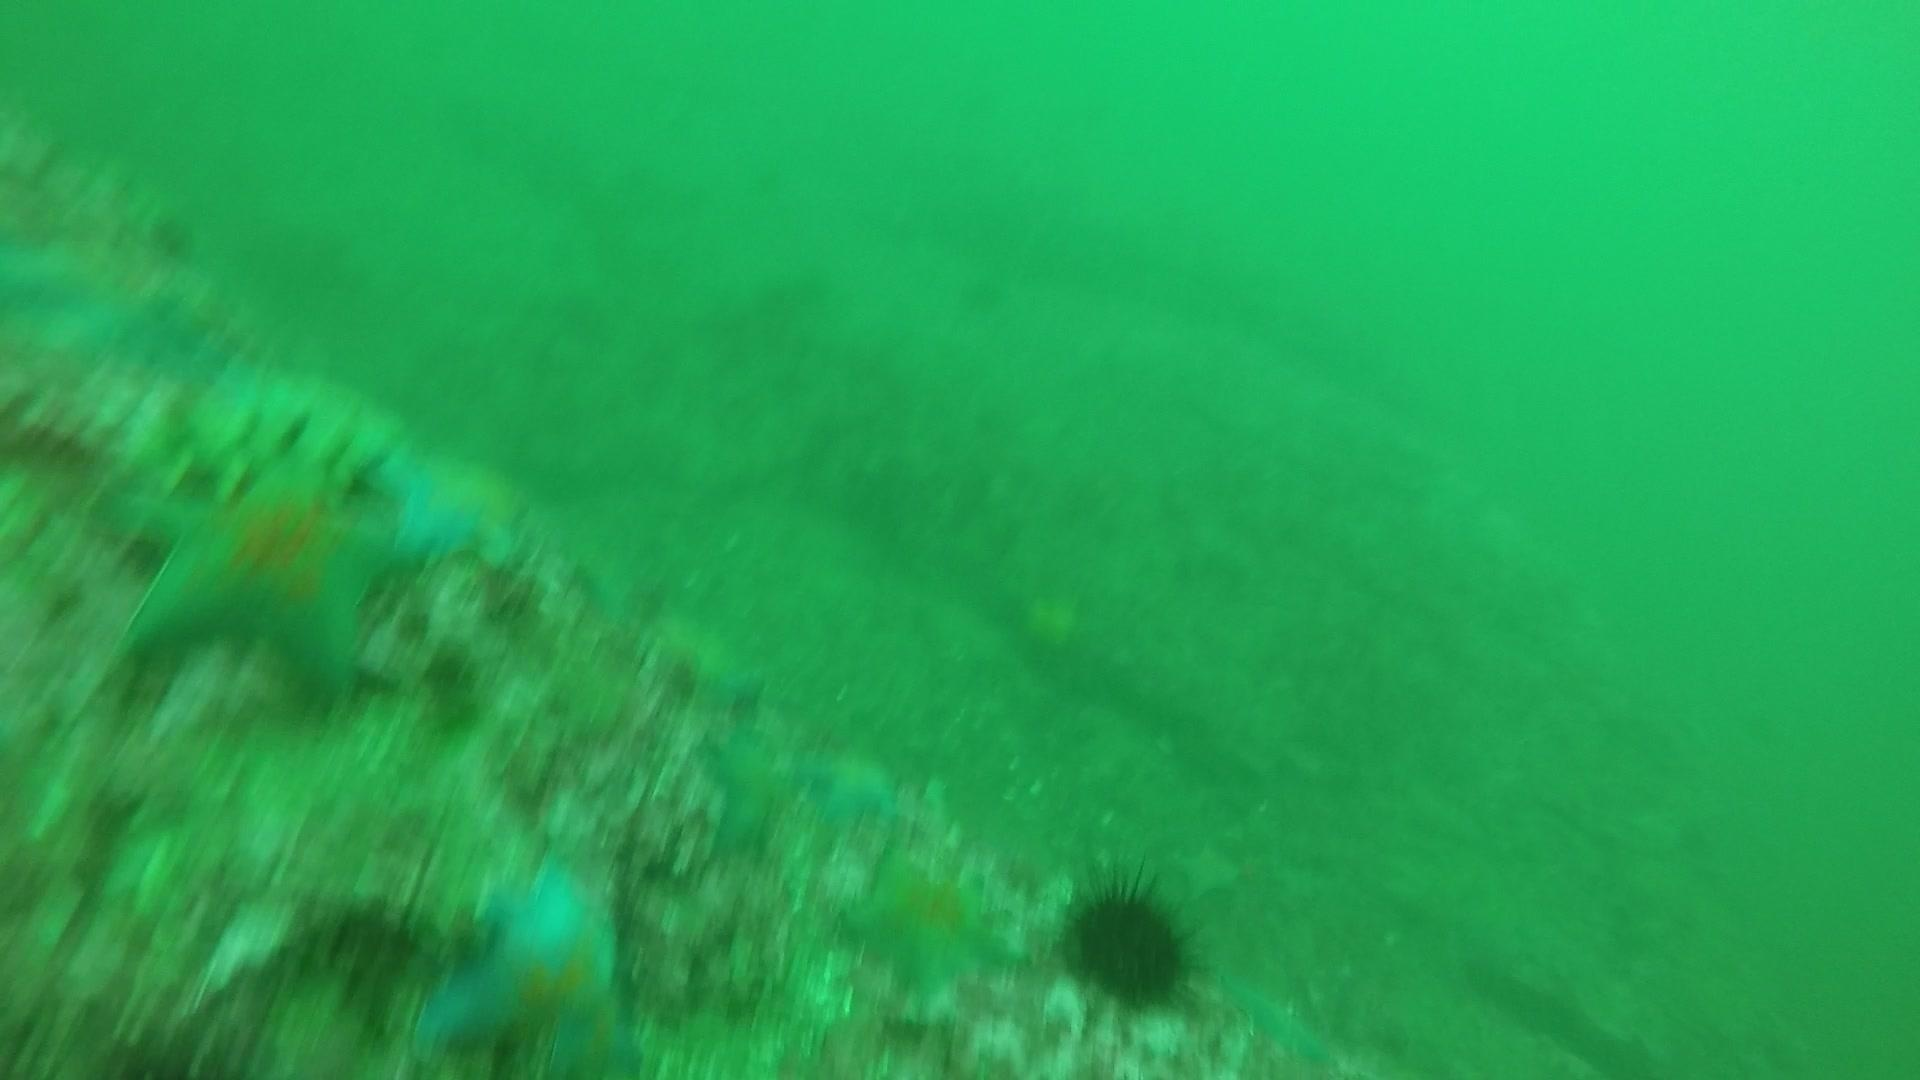echinus: (1056, 869, 1203, 1015)
holothurian: (109, 382, 389, 513)
starfish: (108, 450, 410, 703), (406, 849, 647, 1076), (837, 845, 1021, 1007), (368, 438, 534, 575), (1216, 968, 1348, 1073), (698, 723, 796, 858), (794, 741, 909, 833), (1170, 836, 1246, 905)
